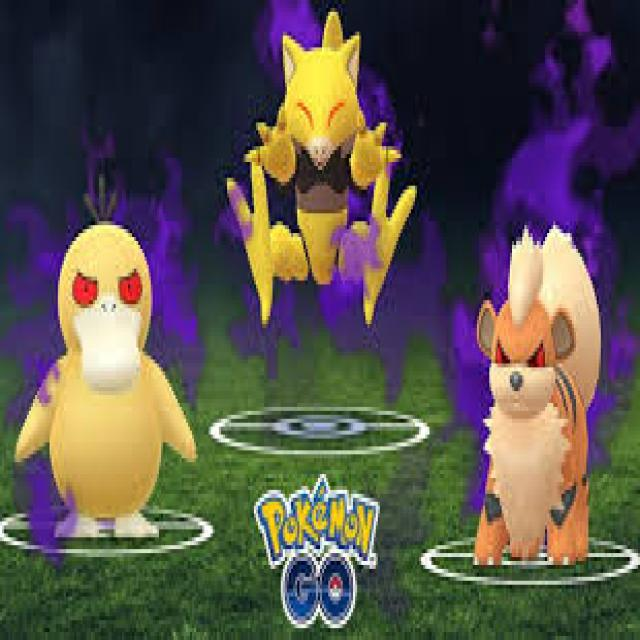Abra: (276, 27, 366, 285)
Growlithe: (473, 277, 587, 550)
Psyduck: (55, 223, 154, 527)
